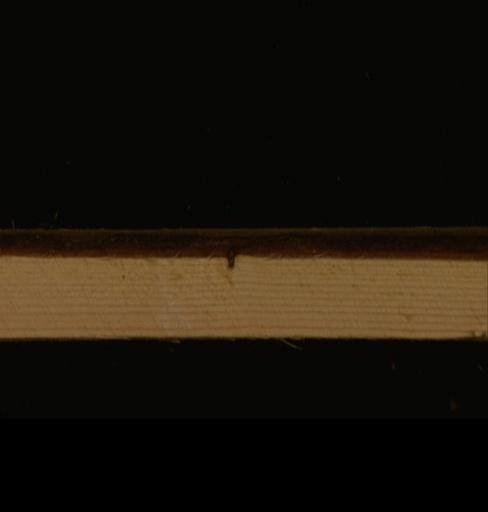wave: (0, 223, 486, 259)
